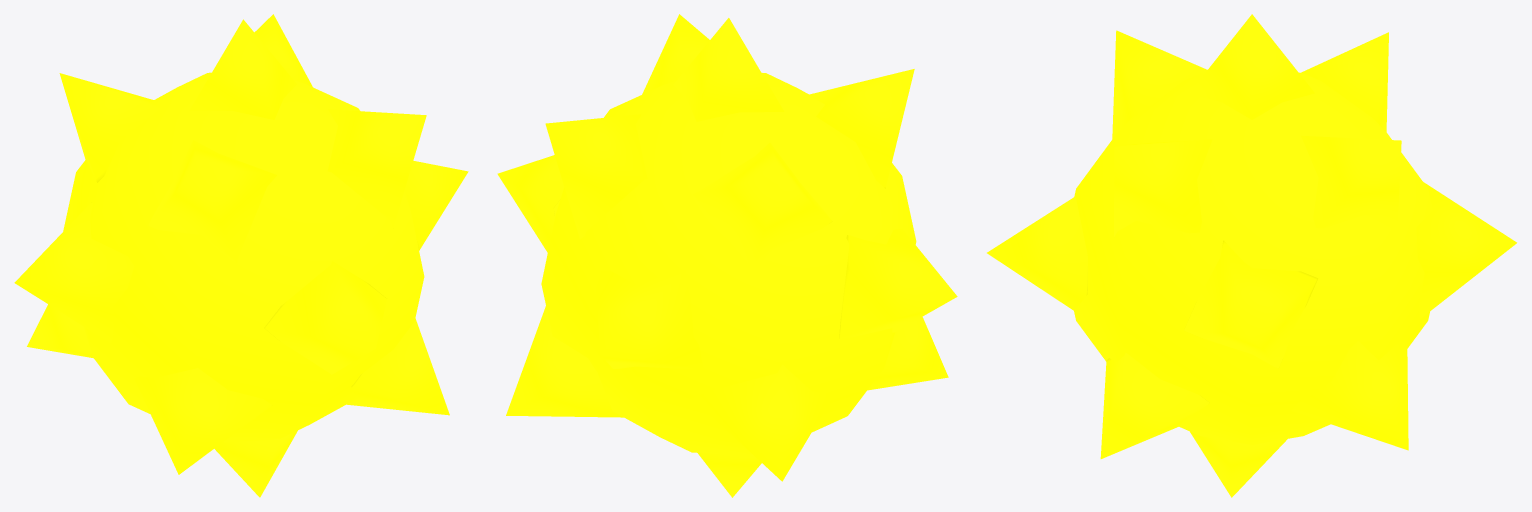
File: GemStar.fbx
The picture shows the model from 3 angles, left to right: view 1: azimuth 30°, elevation 25°; view 2: azimuth 150°, elevation 25°; view 3: azimuth 270°, elevation 25°; orthographic projection. The views are drawn at different scales.
Visible parts, largest first — view 1: Gem; view 2: Gem; view 3: Gem.
Part boxes in pixels (x1,y1,x2,y2): Gem: (14, 14, 468, 497); Gem: (497, 14, 957, 497); Gem: (987, 14, 1516, 497).
Size of the model in its own units: 1.21 by 1.22 by 1.22.
